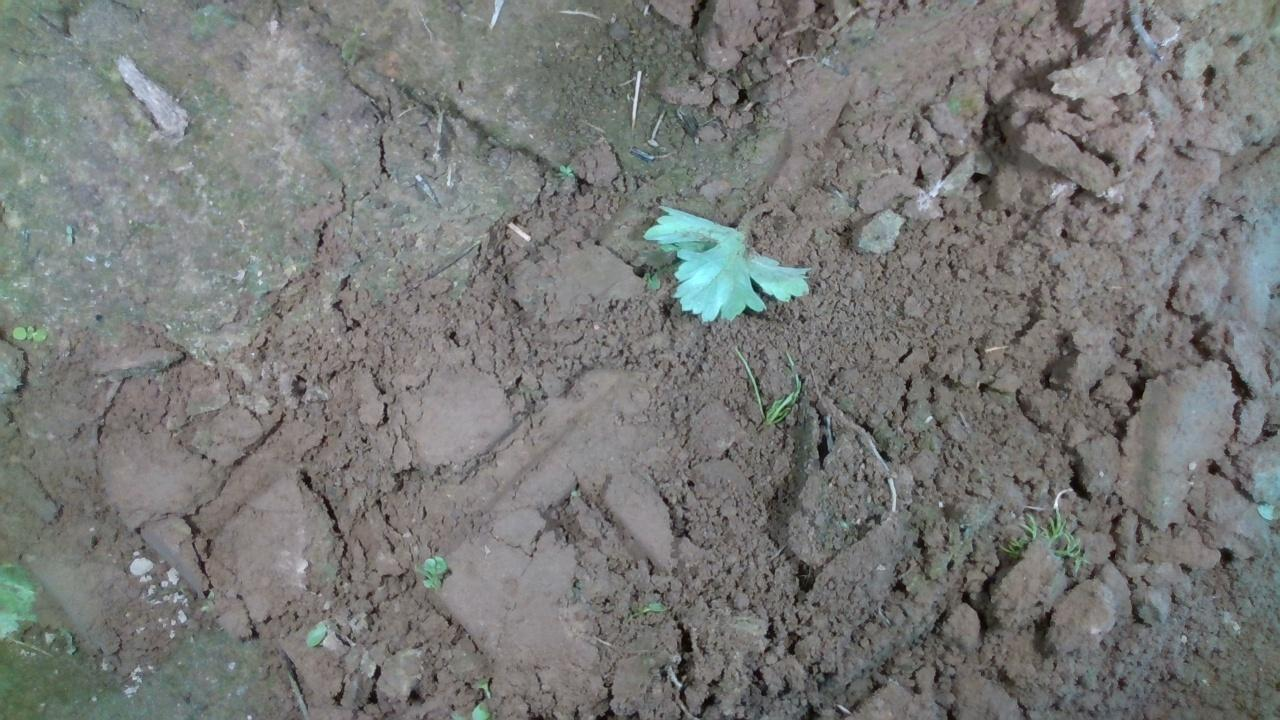weed: (14, 314, 60, 352)
